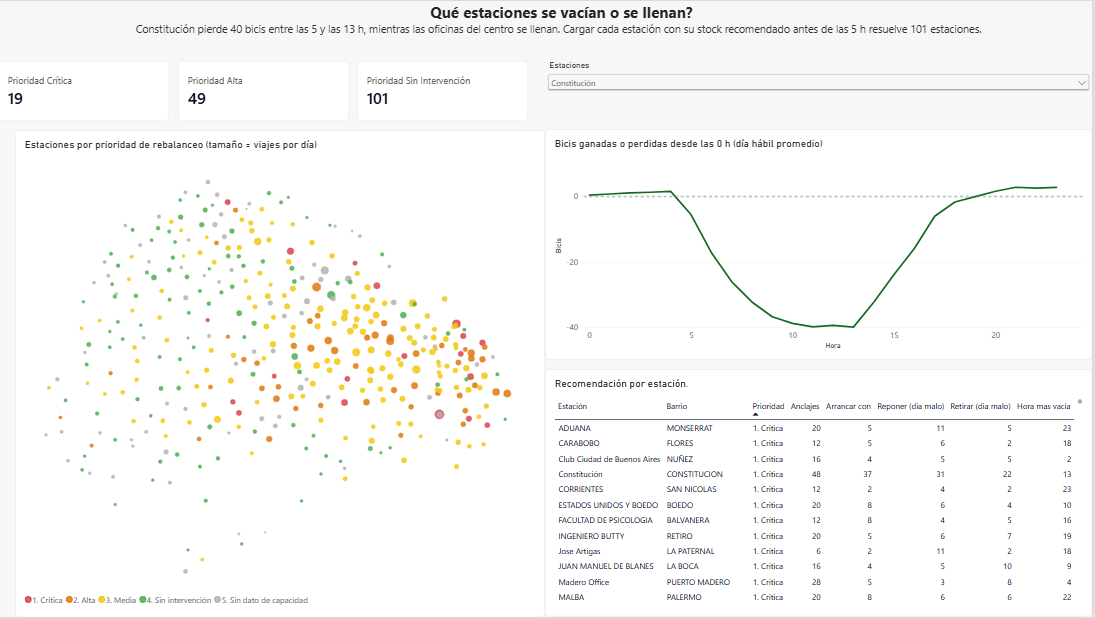

Layout of this report page (visuals, bound fields, positions):
{"tool":"powerbi","page":{"name":"rebalanceo","canvas":[1920,1080],"ordinal":1},"visuals":[{"type":"slicer","title":"Estaciones","fields":{"Values":["estaciones_rebalanceo.nombre"]},"box":[960,105,960,105],"z":0},{"type":"lineChart","title":"Bicis ganadas o perdidas desde las 0 h (día hábil promedio)","fields":{"Category":["flujo_horario.hora"],"Y":["Avg(flujo_horario.saldo_acumulado_prom)"]},"box":[960,225,960,405],"z":1000},{"type":"scatterChart","title":"Estaciones por prioridad de rebalanceo (tamaño = viajes por día)","fields":{"Category":["estaciones_rebalanceo.nombre"],"Series":["estaciones_rebalanceo.prioridad"],"Size":["Avg(estaciones_rebalanceo.movimientos_dia)"],"X":["estaciones_rebalanceo.lon"],"Y":["estaciones_rebalanceo.lat"]},"box":[30,226,930,855],"z":2000},{"type":"tableEx","title":"Recomendación por estación.","fields":{"Values":["estaciones_rebalanceo.nombre","estaciones_rebalanceo.barrio","estaciones_rebalanceo.prioridad","estaciones_rebalanceo.capacidad","estaciones_rebalanceo.stock_recomendado","estaciones_rebalanceo.reponer_p90","estaciones_rebalanceo.retirar_p90","estaciones_rebalanceo.hora_mas_vacia"]},"box":[960,646,960,434],"z":3000},{"type":"cardVisual","fields":{"Data":["CountNonNull(estaciones_rebalanceo.id_estacion)"]},"box":[0,105,300,105],"z":4000},{"type":"cardVisual","fields":{"Data":["CountNonNull(estaciones_rebalanceo.id_estacion)"]},"box":[315,105,300,105],"z":5000},{"type":"cardVisual","fields":{"Data":["CountNonNull(estaciones_rebalanceo.id_estacion)"]},"box":[630,105,300,105],"z":6000},{"type":"textbox","box":[0,0,1920,100],"z":7000}]}

Visuals, with their boxes in screenshot pixels (x1, y1, x2, y2), scaled from the page's 1920x1080 canvas onto the 1095x618 screenshot:
"Estaciones" slicer: locate(548, 60, 1094, 120)
"Bicis ganadas o perdidas desde las 0 h (día hábil promedio)" lineChart: locate(548, 129, 1094, 360)
"Estaciones por prioridad de rebalanceo (tamaño = viajes por día)" scatterChart: locate(17, 129, 548, 617)
"Recomendación por estación." tableEx: locate(548, 370, 1094, 617)
cardVisual - CountNonNull(estaciones_rebalanceo.id_estacion): locate(0, 60, 171, 120)
cardVisual - CountNonNull(estaciones_rebalanceo.id_estacion): locate(180, 60, 351, 120)
cardVisual - CountNonNull(estaciones_rebalanceo.id_estacion): locate(359, 60, 530, 120)
textbox: locate(0, 0, 1094, 57)
